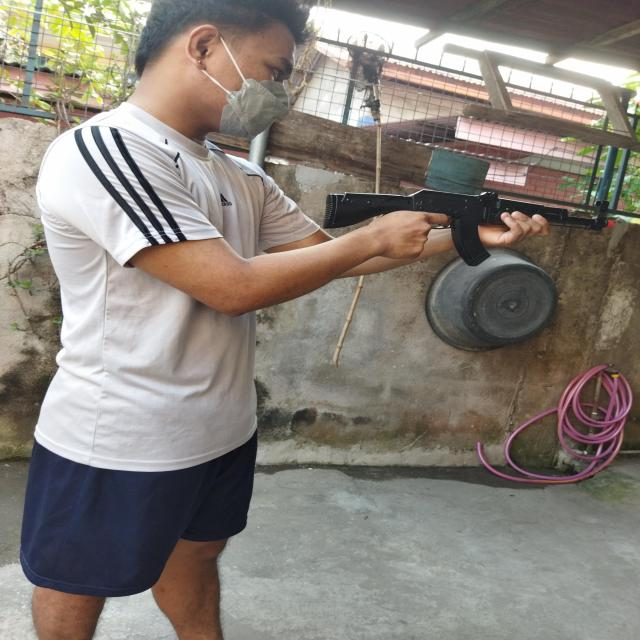rifle: (323, 190, 614, 266)
